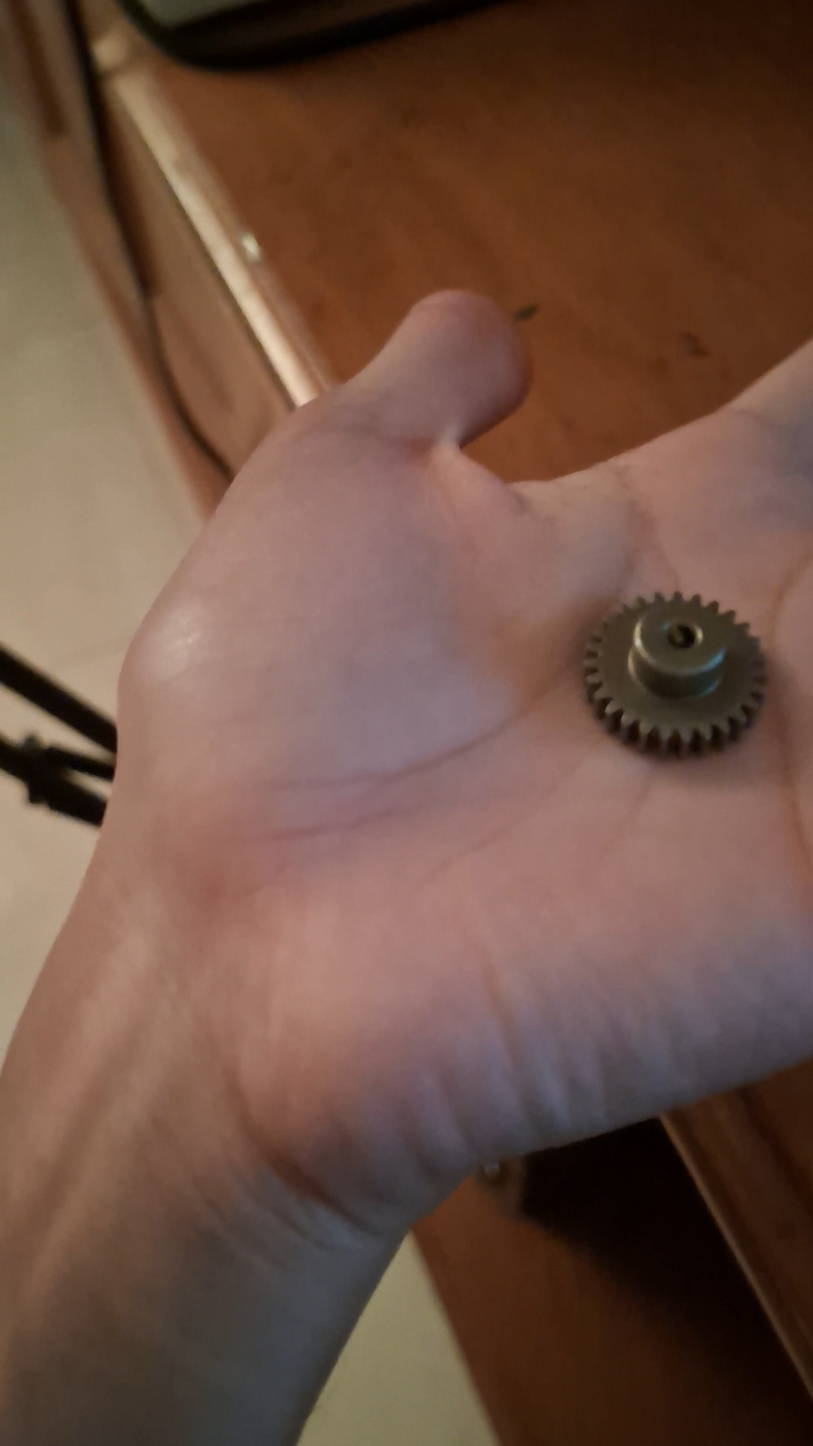spur gear: (585, 593, 766, 755)
